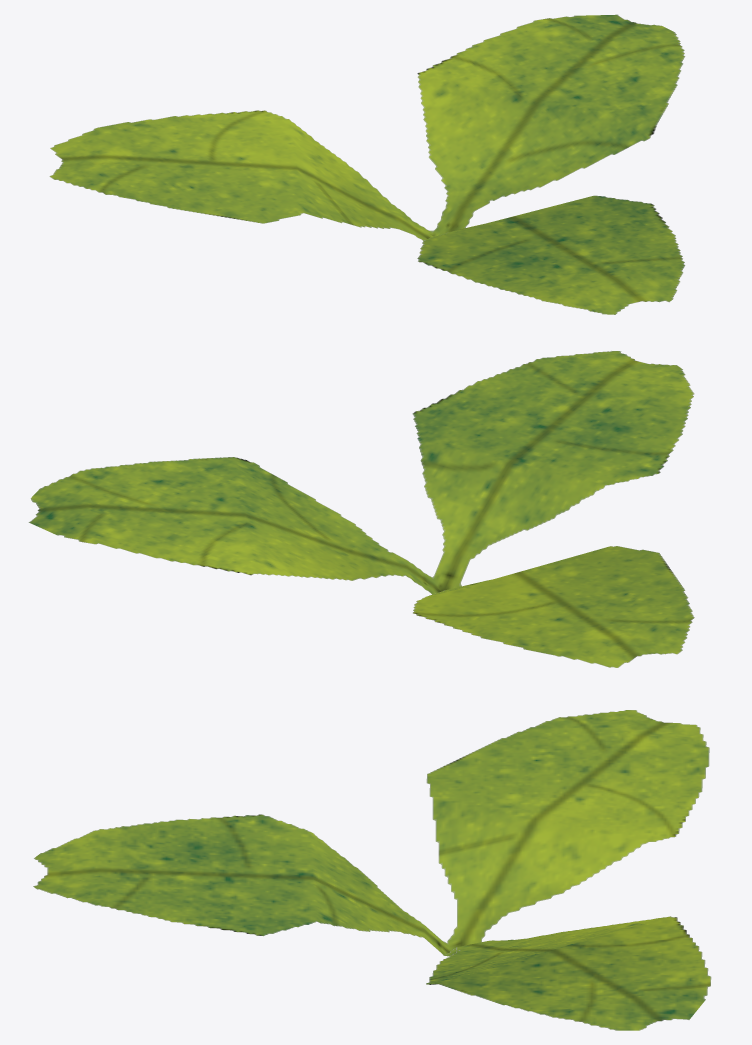
The model's file is Grass_04.fbx.
3 renders of one model, top to bottom at view 1: azimuth 30°, elevation 25°; view 2: azimuth 150°, elevation 25°; view 3: azimuth 270°, elevation 25°, orthographic. The views are drawn at different scales.
Visible parts, largest first — view 1: Grass_04; view 2: Grass_04; view 3: Grass_04.
Boxes of the visible parts, left/top/right/bottom form: Grass_04: left=49, top=14, right=685, bottom=314; Grass_04: left=28, top=351, right=694, bottom=667; Grass_04: left=33, top=710, right=711, bottom=1030.
Size of the model in its own units: 0.496 by 0.0636 by 0.4572.
